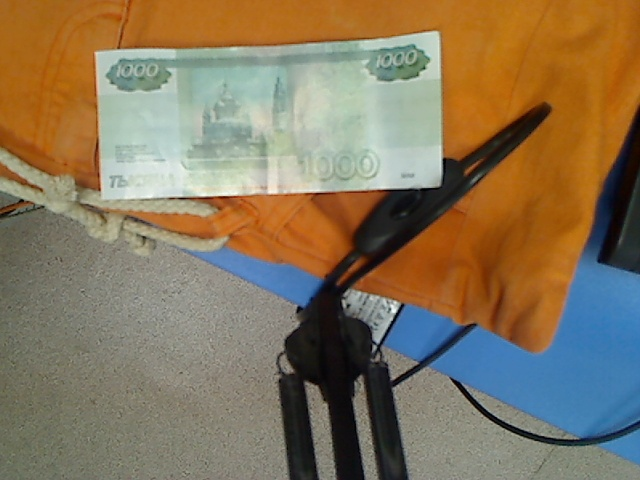banknotes: (95, 29, 452, 202)
